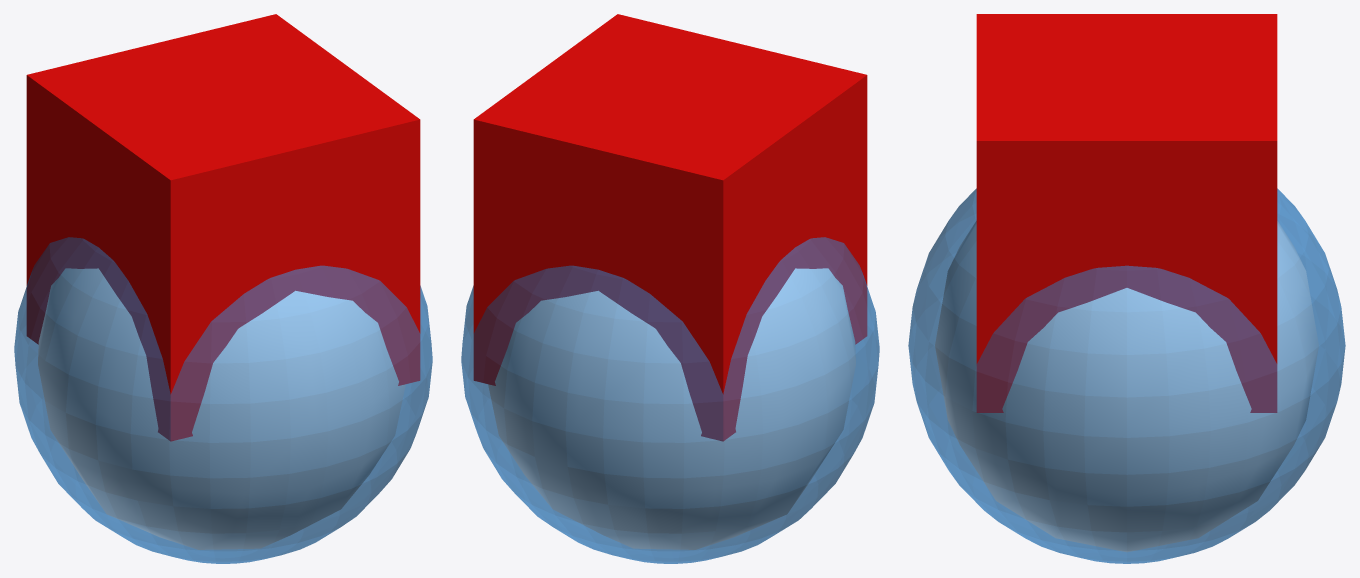
3 renders of one model, left to right at view 1: azimuth 30°, elevation 25°; view 2: azimuth 150°, elevation 25°; view 3: azimuth 270°, elevation 25°, orthographic. The views are drawn at different scales.
Parts seen in each view (by area): view 1: ProjectileLauncher, ImpactTemplate, ProjectileTemplate; view 2: ProjectileLauncher, ImpactTemplate, ProjectileTemplate; view 3: ImpactTemplate, ProjectileLauncher, ProjectileTemplate.
Boxes of the visible parts, left/top/right/bottom form: ProjectileLauncher: left=26, top=14, right=420, bottom=441; ImpactTemplate: left=14, top=237, right=432, bottom=563; ProjectileTemplate: left=38, top=268, right=405, bottom=549; ProjectileLauncher: left=473, top=14, right=867, bottom=441; ImpactTemplate: left=461, top=237, right=879, bottom=563; ProjectileTemplate: left=488, top=268, right=855, bottom=549; ImpactTemplate: left=908, top=188, right=1345, bottom=563; ProjectileLauncher: left=976, top=14, right=1277, bottom=412; ProjectileTemplate: left=935, top=221, right=1318, bottom=552.
Bounding box in the file's own units: 0.4 × 0.4707 × 0.4.
